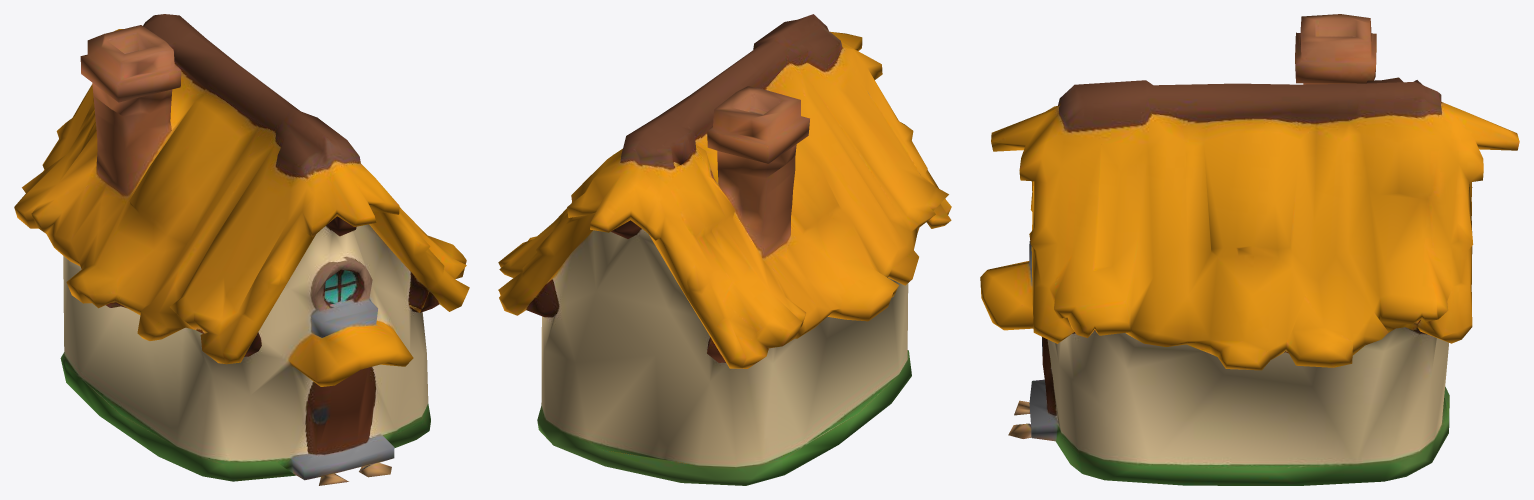
The model's file is hut_3.glb.
The picture shows the model from 3 angles, left to right: view 1: azimuth 30°, elevation 25°; view 2: azimuth 150°, elevation 25°; view 3: azimuth 270°, elevation 25°; orthographic projection. The views are drawn at different scales.
Parts seen in each view (by area): view 1: ЦІЛЬ; view 2: ЦІЛЬ; view 3: ЦІЛЬ.
Boxes of the visible parts, bbox=[...] form: ЦІЛЬ: bbox=[14, 14, 469, 485]; ЦІЛЬ: bbox=[498, 14, 951, 485]; ЦІЛЬ: bbox=[980, 14, 1519, 485].
Bounding box in the file's own units: 1.44 × 1.42 × 1.95.
Materials: 1 (1 with a texture image).
